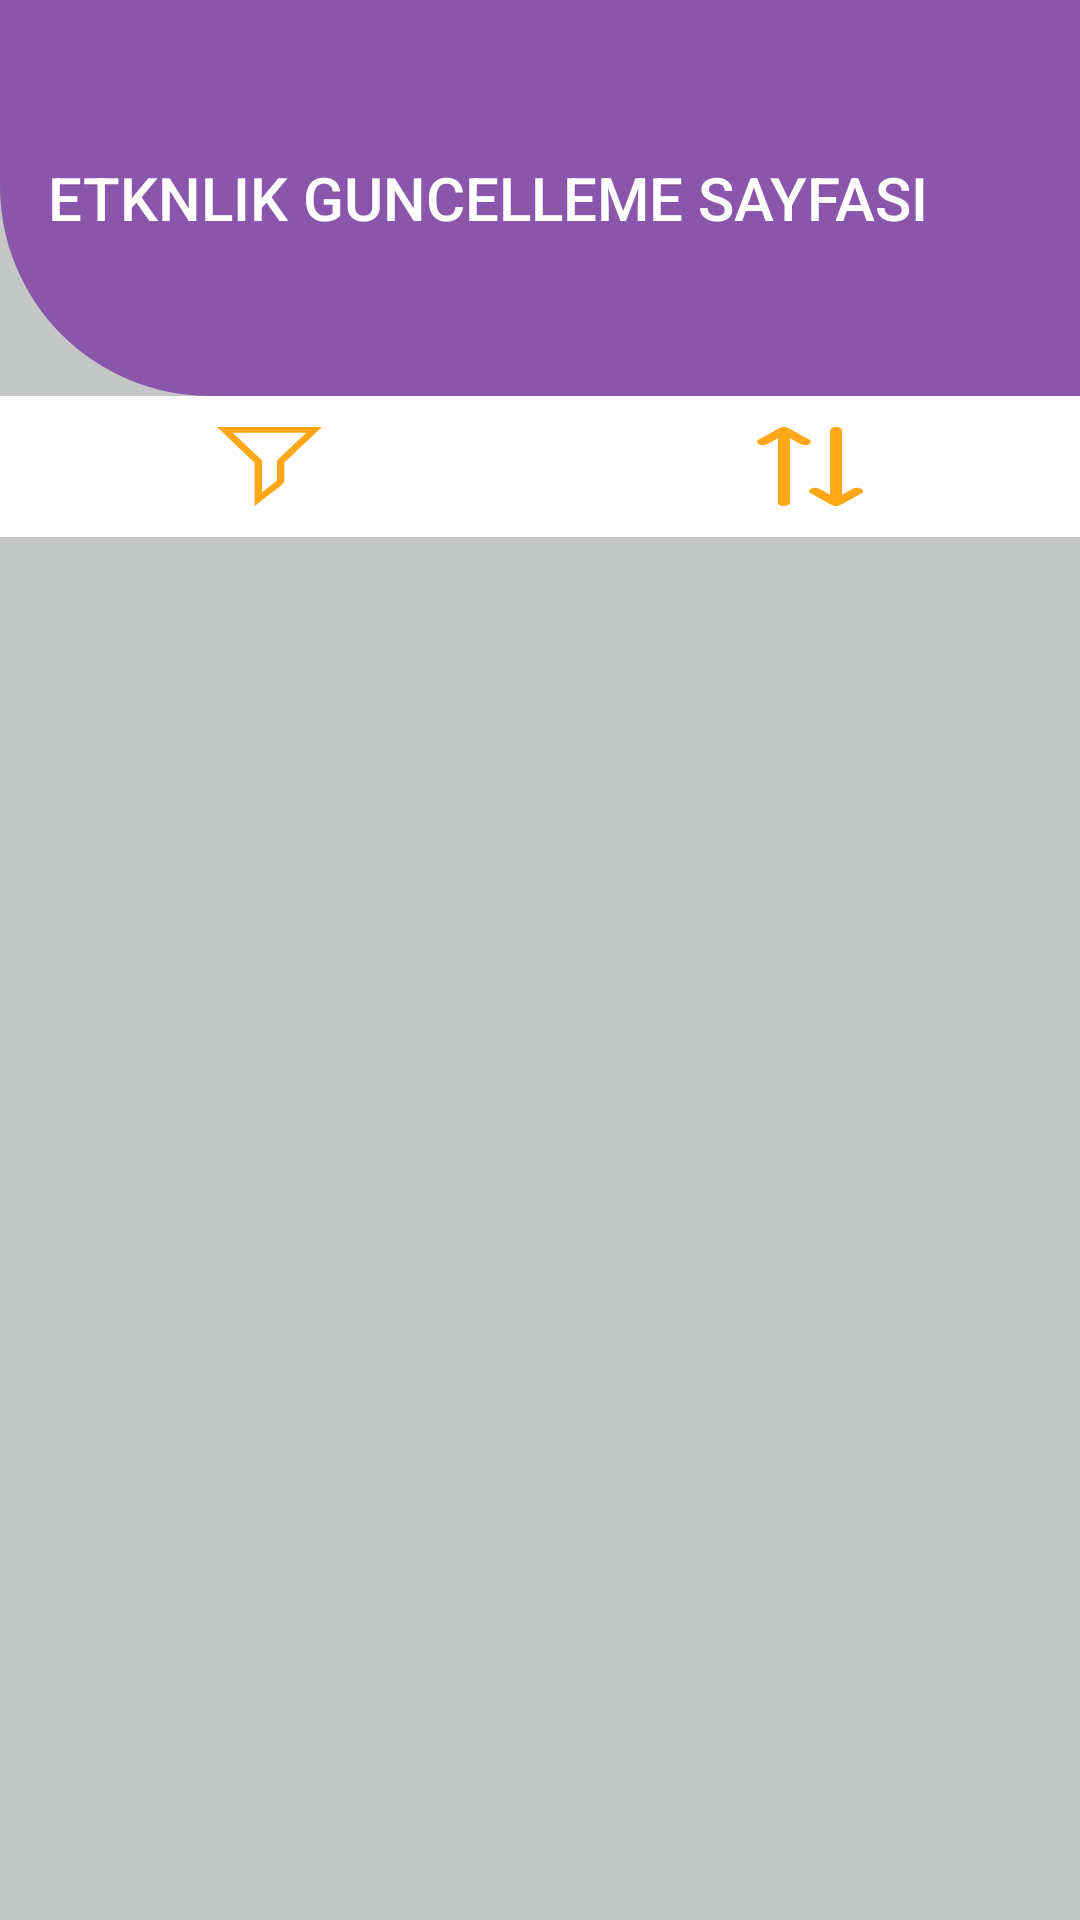

Where icons sit on this 1080w x 1920h app screen, as (x1, y1, x2, y2):
filtreleme: (217, 427, 322, 506)
siralama: (757, 427, 863, 506)
